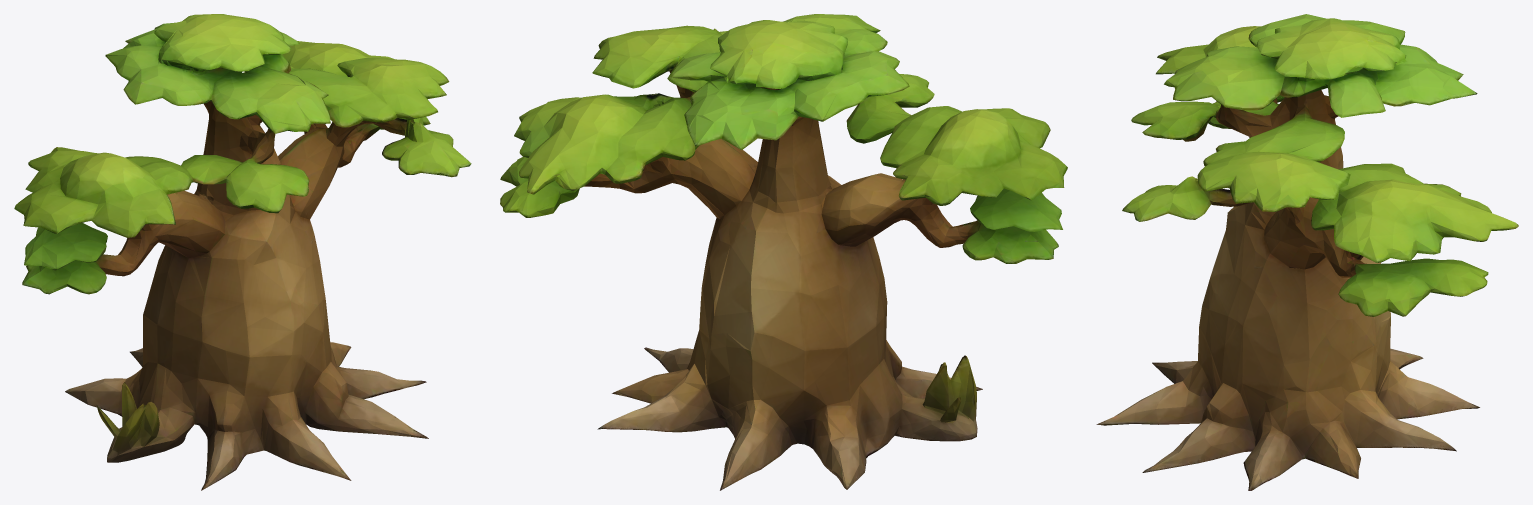
Rendered from baobab_tree.glb.
The picture shows the model from 3 angles, left to right: view 1: azimuth 30°, elevation 25°; view 2: azimuth 150°, elevation 25°; view 3: azimuth 270°, elevation 25°; orthographic projection. The views are drawn at different scales.
Parts seen in each view (by area): view 1: world; view 2: world; view 3: world.
Boxes of the visible parts, left/top/right/bottom form: world: left=14, top=14, right=471, bottom=490; world: left=500, top=14, right=1067, bottom=490; world: left=1096, top=14, right=1518, bottom=490.
Bounding box in the file's own units: 0.9931 × 0.7745 × 0.7705.
Materials: 1 (1 with a texture image).
